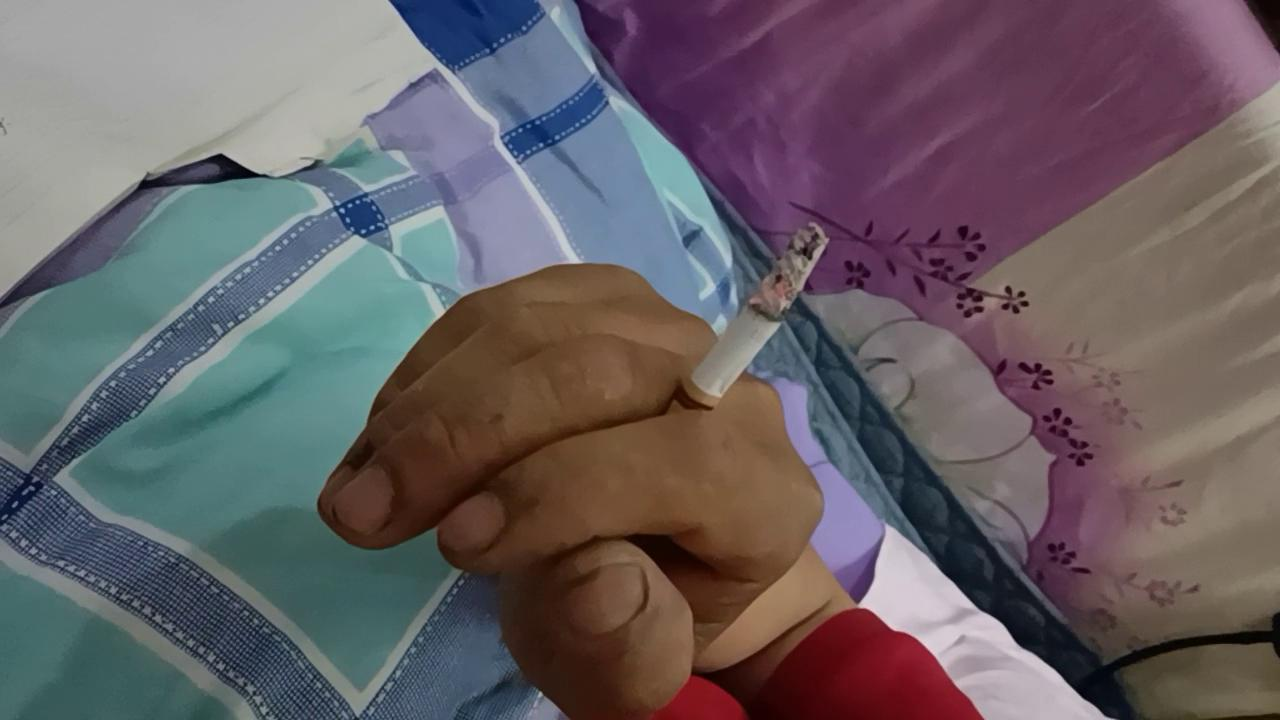smoke: (655, 220, 832, 448)
